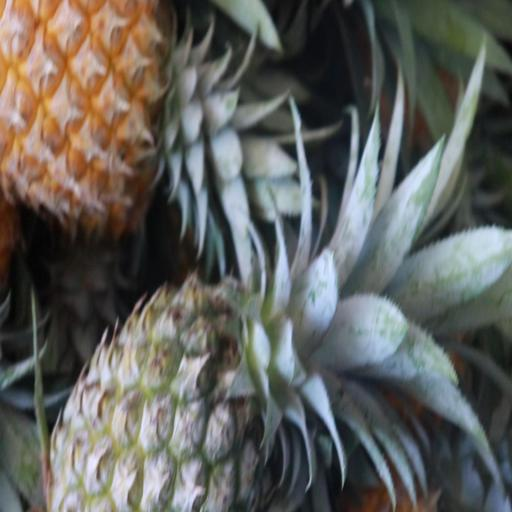------------------------------: (54, 277, 315, 512)
Pineapple - v8 v1: (2, 0, 191, 222)
